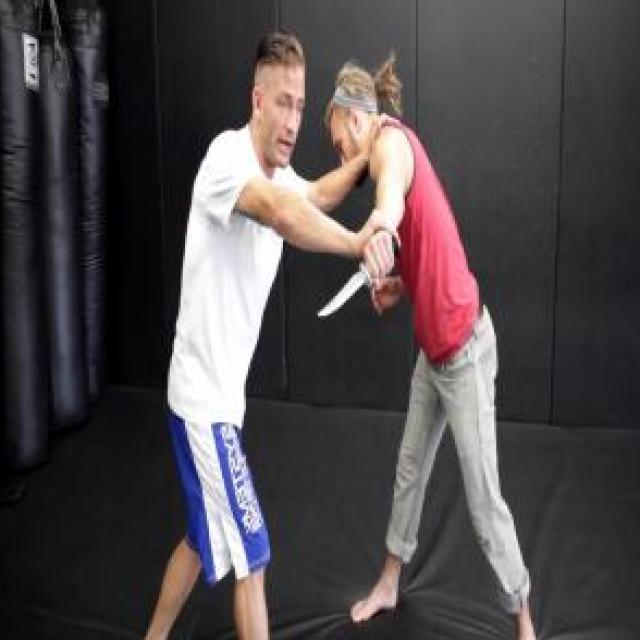knife: (312, 228, 405, 331)
